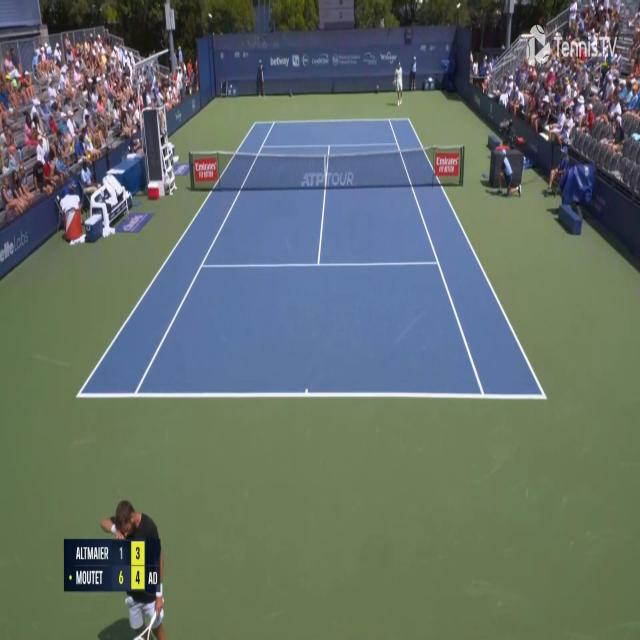tennis-player: (101, 497, 169, 640), (392, 61, 403, 106)
